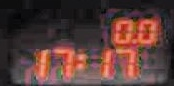-: (131, 36, 137, 43)
0: (112, 18, 131, 44), (137, 17, 156, 42)
1: (34, 46, 45, 79), (101, 46, 111, 77)
7: (49, 45, 72, 77), (116, 45, 137, 76)
X: (75, 51, 84, 70)
